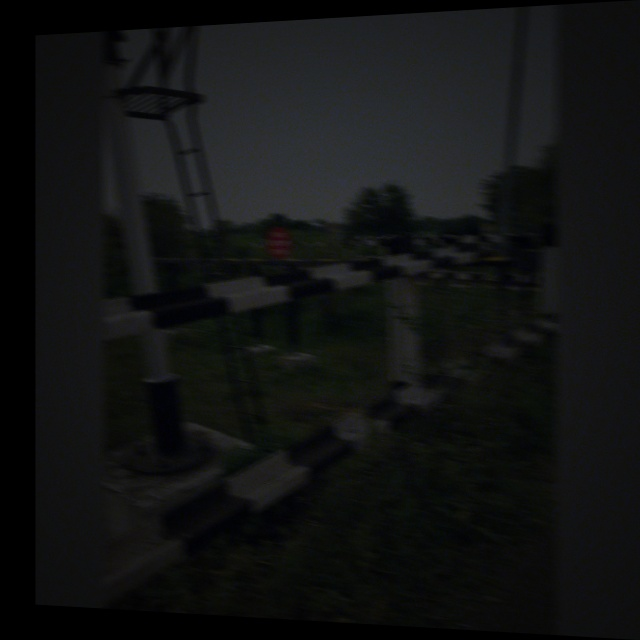Stop: (266, 226, 290, 259)
